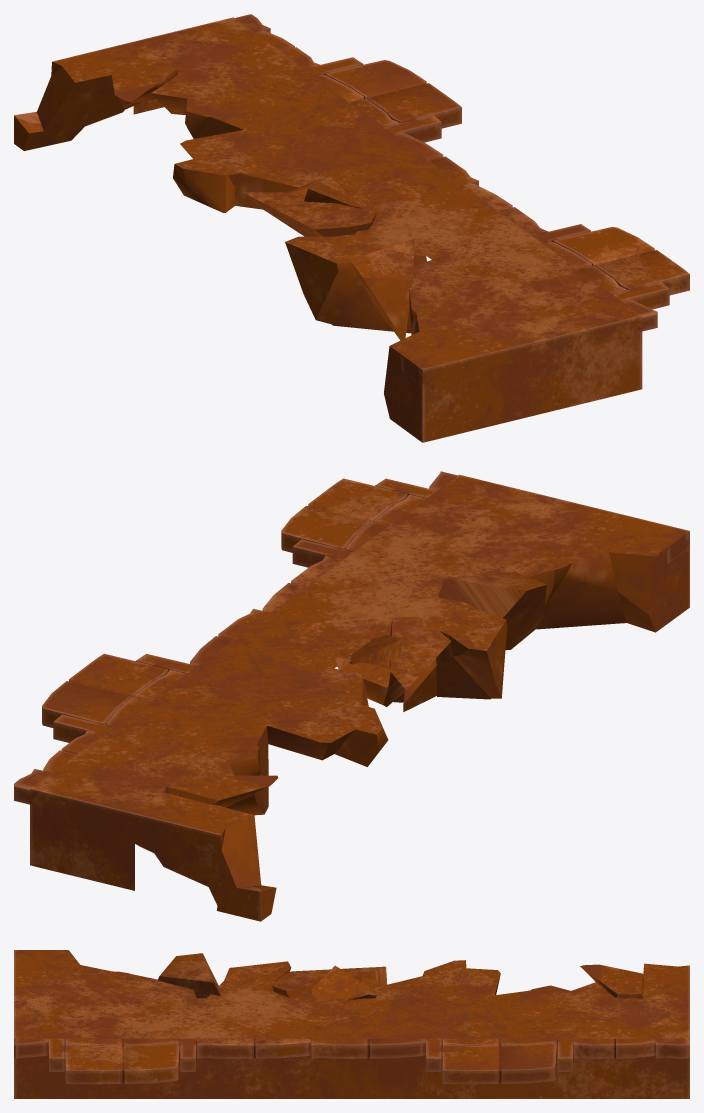
The model's file is Broken Blocks 2.fbx.
The picture shows the model from 3 angles, top to bottom: view 1: azimuth 30°, elevation 25°; view 2: azimuth 150°, elevation 25°; view 3: azimuth 270°, elevation 25°; orthographic projection. The views are drawn at different scales.
Parts seen in each view (by area): view 1: Broken Blocks 2; view 2: Broken Blocks 2; view 3: Broken Blocks 2.
Part boxes in pixels (bbox=[...]): Broken Blocks 2: bbox=[14, 14, 689, 442]; Broken Blocks 2: bbox=[14, 471, 689, 921]; Broken Blocks 2: bbox=[14, 950, 689, 1098].
Bounding box in the file's own units: 5.01 × 1.49 × 11.86.
